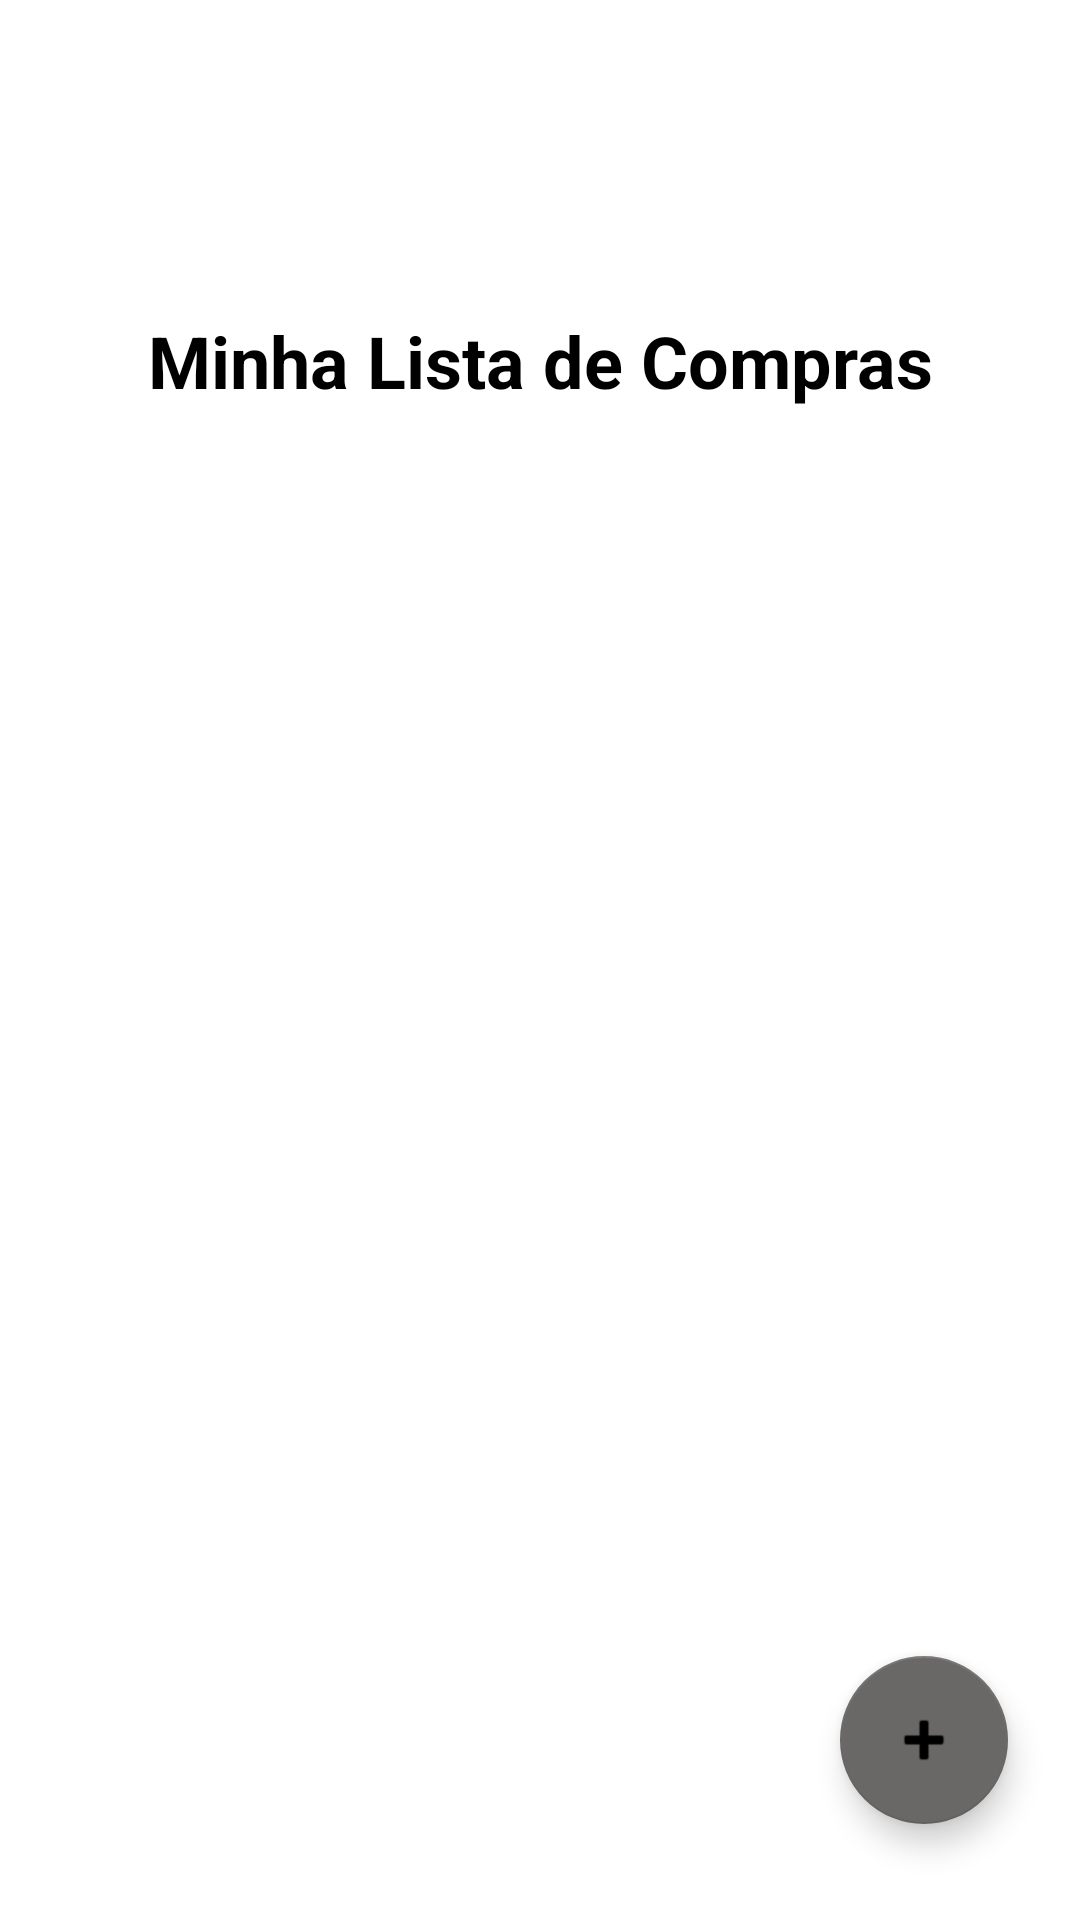

Named icons in this screenshot (1080x1920) and their bounding boxes, (x1, y1, x2, y2):
add: (840, 1656, 1008, 1824)
